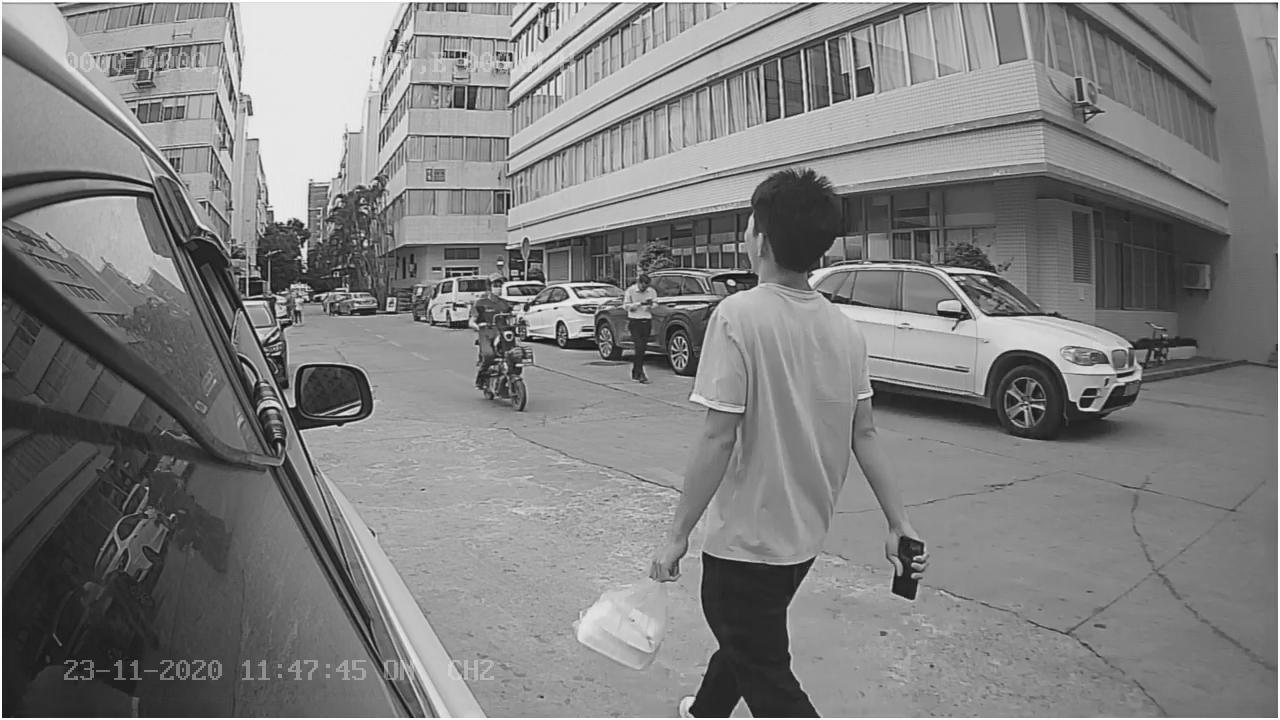person: (688, 153, 905, 499)
